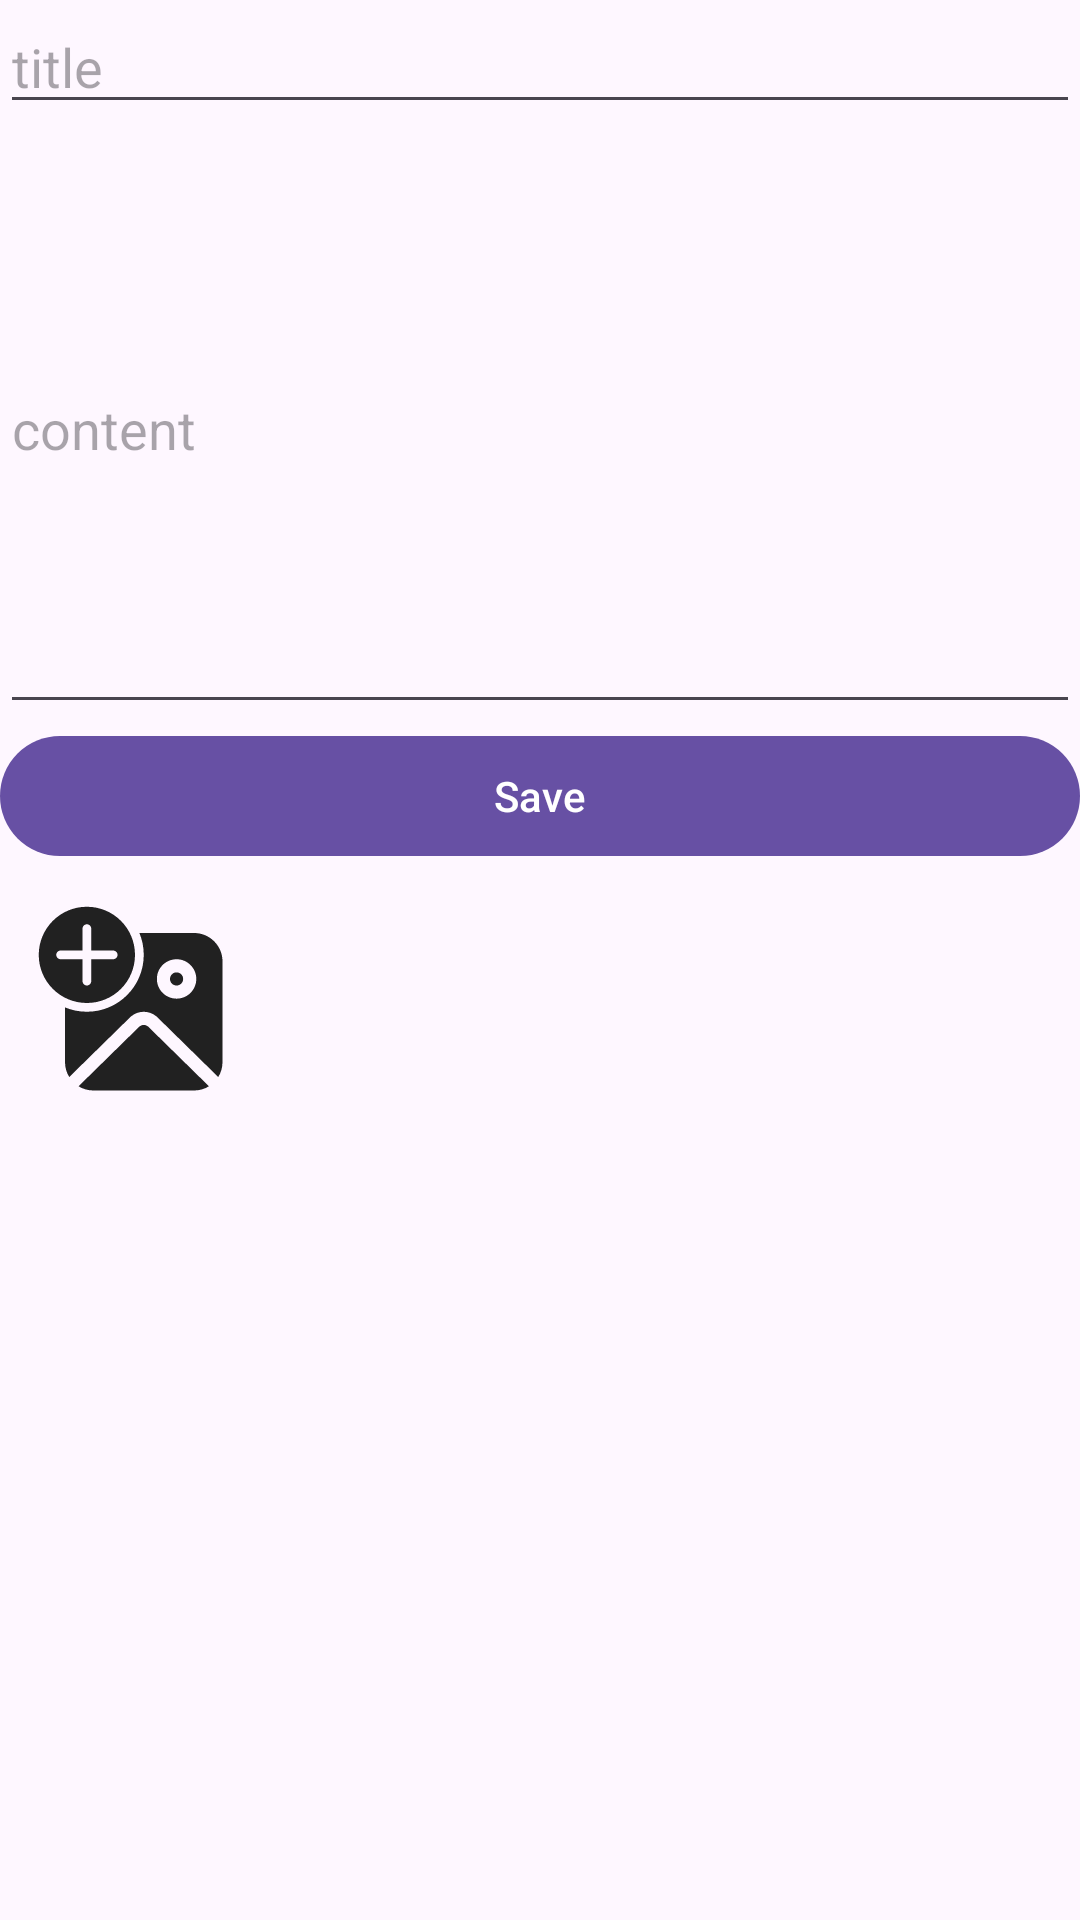

Icon click points for this 1080 × 1920 phone screenshot, format [x,y]:
add: [130,998]
